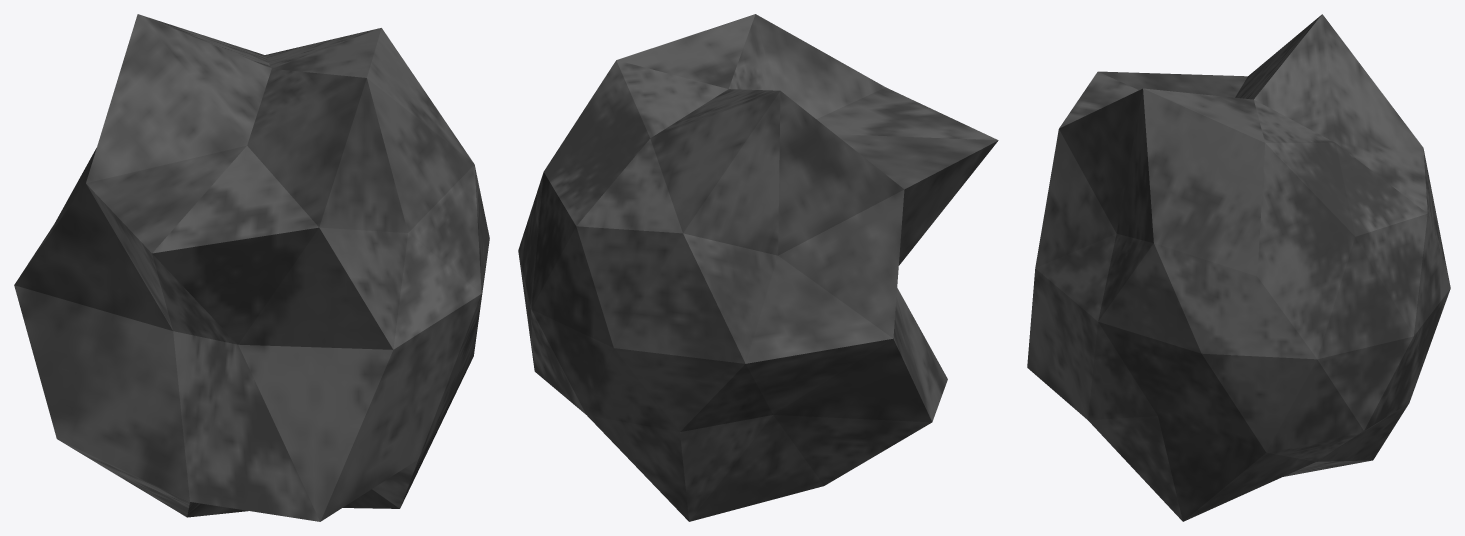
File: asteroid.glb
3 views of the same model, side by side, from view 1: azimuth 30°, elevation 25°; view 2: azimuth 150°, elevation 25°; view 3: azimuth 270°, elevation 25° (orthographic). The views are drawn at different scales.
Visible parts, largest first — view 1: Icosphere; view 2: Icosphere; view 3: Icosphere.
Boxes of the visible parts, <box> form: Icosphere: <box>14,14,489,521</box>; Icosphere: <box>518,14,998,521</box>; Icosphere: <box>1027,14,1450,521</box>.
Bounding box in the file's own units: 0.8958 × 0.9993 × 0.8958.
Materials: 1 (1 with a texture image).
